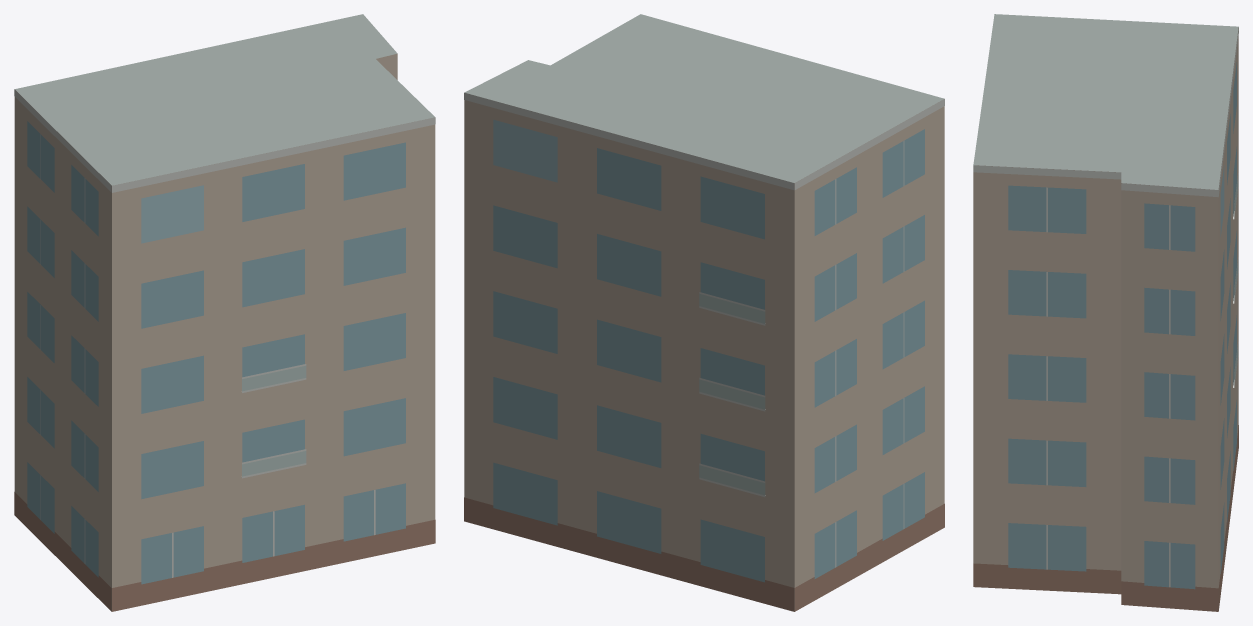
Rendered from survey-upis-32499559.glb.
The picture shows the model from 3 angles, left to right: view 1: azimuth 30°, elevation 25°; view 2: azimuth 150°, elevation 25°; view 3: azimuth 270°, elevation 25°; orthographic projection.
Visible parts, largest first — view 1: survey-upis-32499559.tmp; view 2: survey-upis-32499559.tmp; view 3: survey-upis-32499559.tmp.
Part boxes in pixels (x1=…): survey-upis-32499559.tmp: x1=14, y1=14, x2=435, y2=611; survey-upis-32499559.tmp: x1=464, y1=14, x2=944, y2=611; survey-upis-32499559.tmp: x1=973, y1=14, x2=1238, y2=611.
Bounding box in the file's own units: 12.9 × 14.4 × 8.22.
